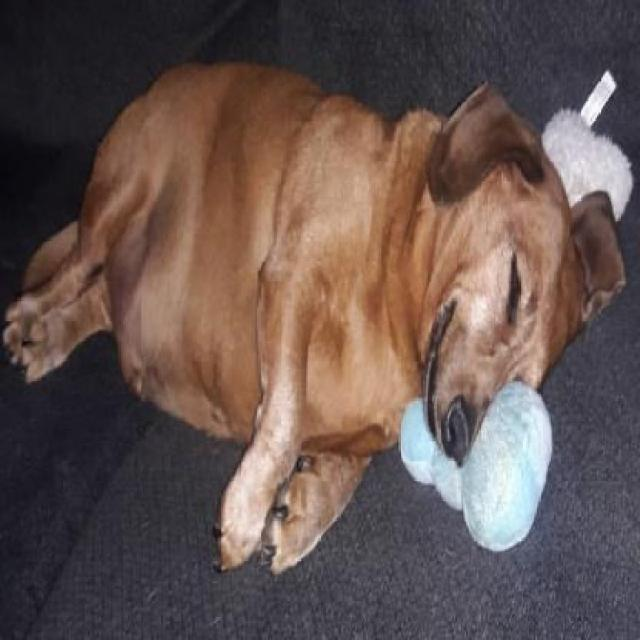Dog: (3, 60, 625, 585)
